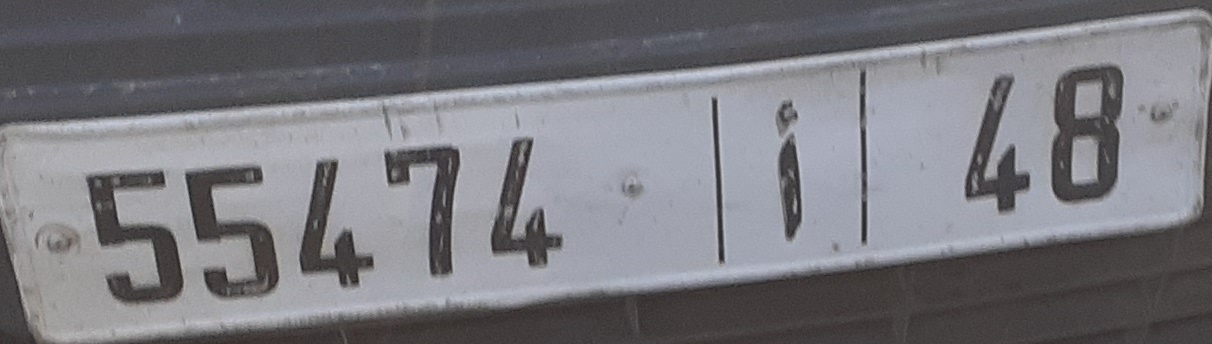4: (283, 160, 382, 297), (955, 67, 1042, 221), (480, 130, 573, 274)
5: (79, 167, 189, 308), (179, 163, 283, 303)
7: (376, 137, 469, 283)
8: (1043, 58, 1135, 211)
a: (766, 90, 815, 247)
